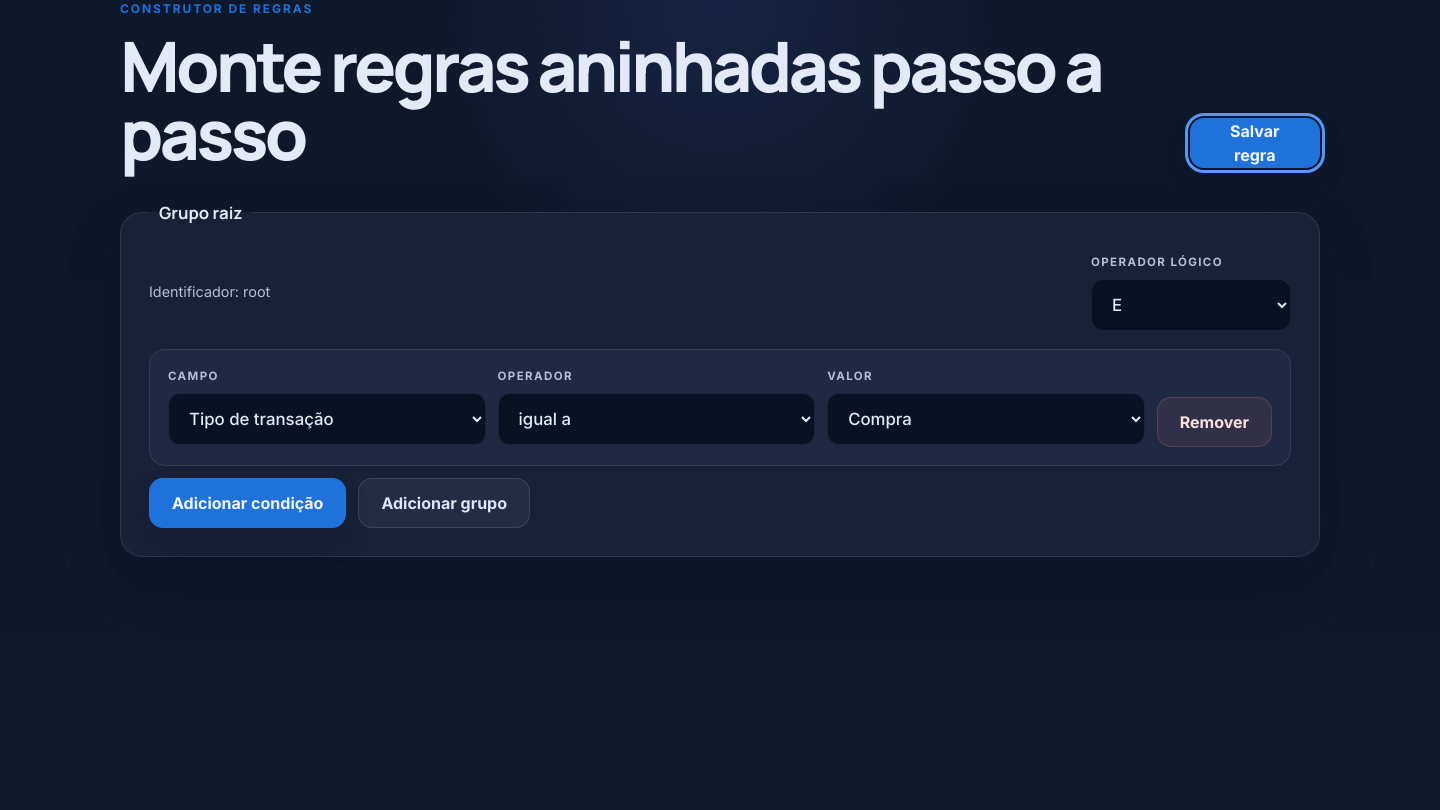
Test: RuleBuilder › allows closing the review modal with Escape and backdrop click
Click the button "Salvar regra" at (1255, 143), box 1190,118 -> 1320,168
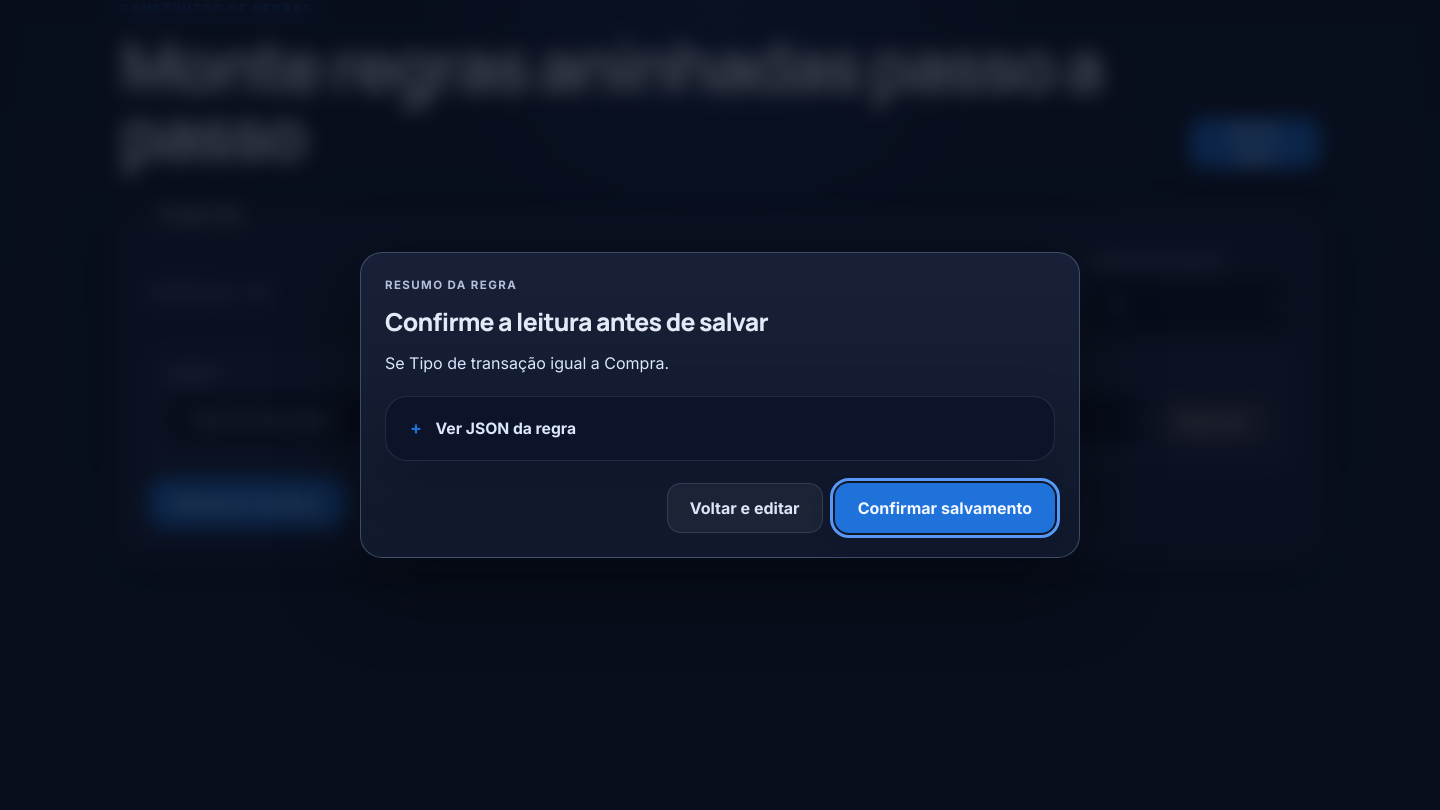
Press Enter in the dialog
Check: the dialog is shown
Press Escape in the dialog
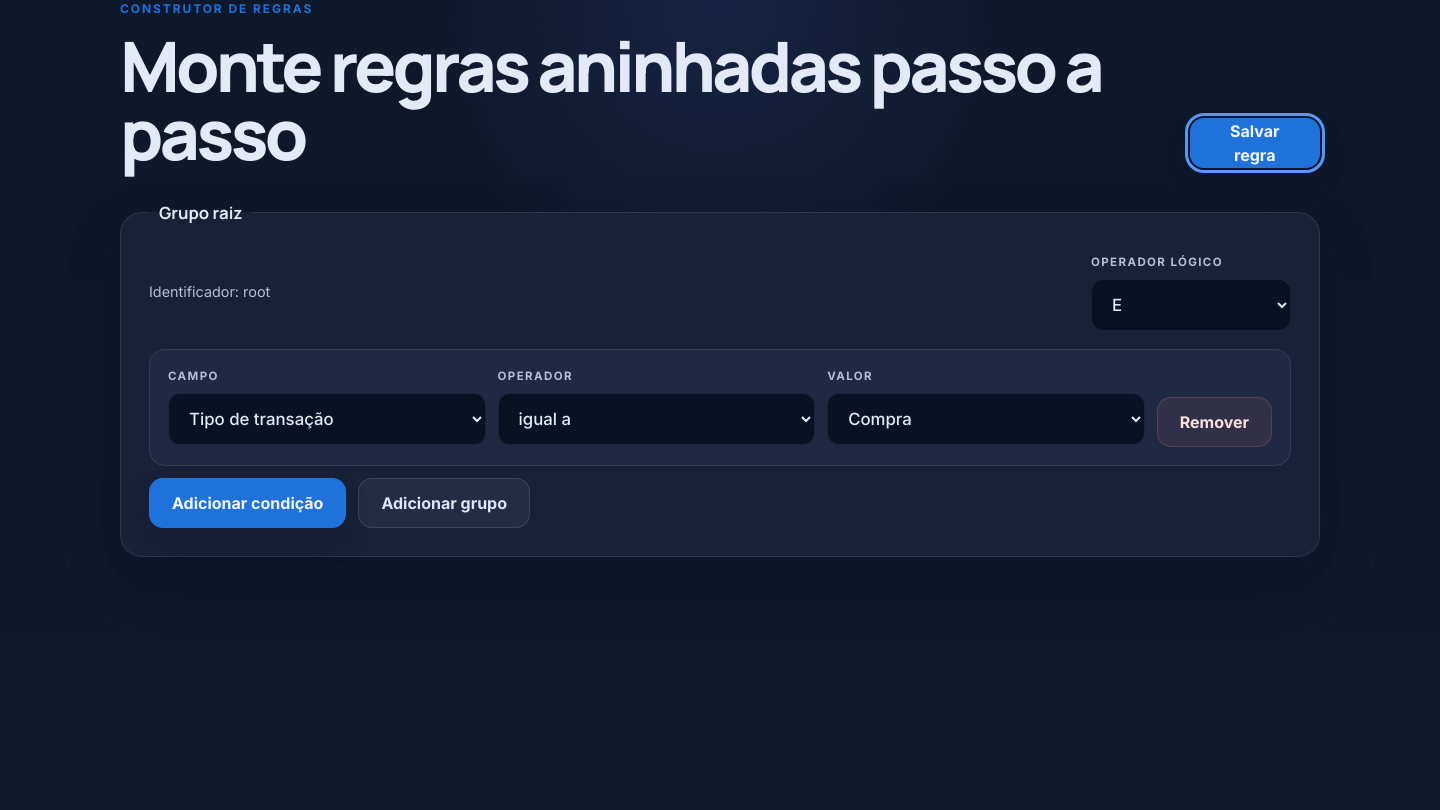
Check: the dialog is gone
Click the button "Salvar regra" at (1255, 143), box 1190,118 -> 1320,168
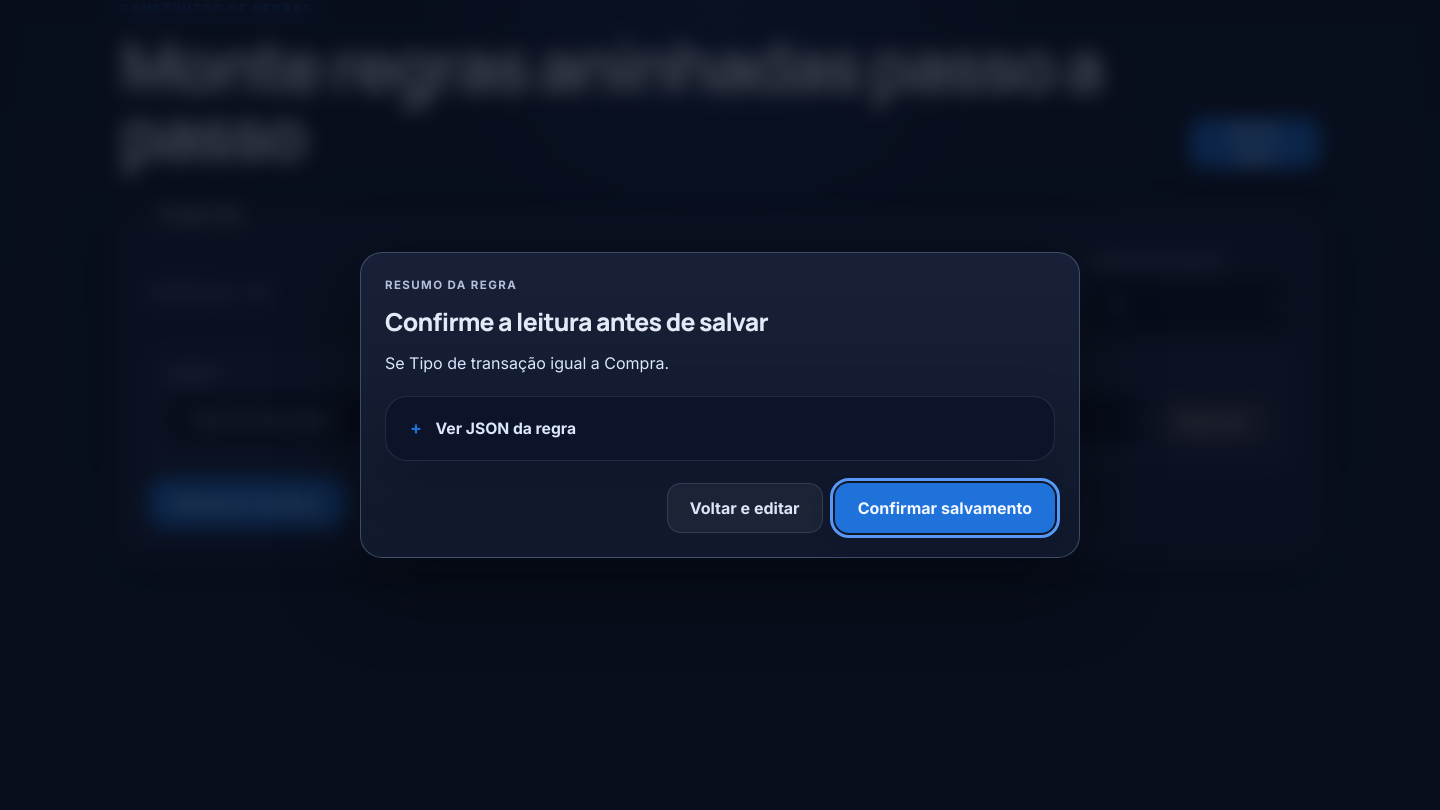
Click the element with class "rule-review-modal__backdrop" at (86, 405), box 0,0 -> 1439,809
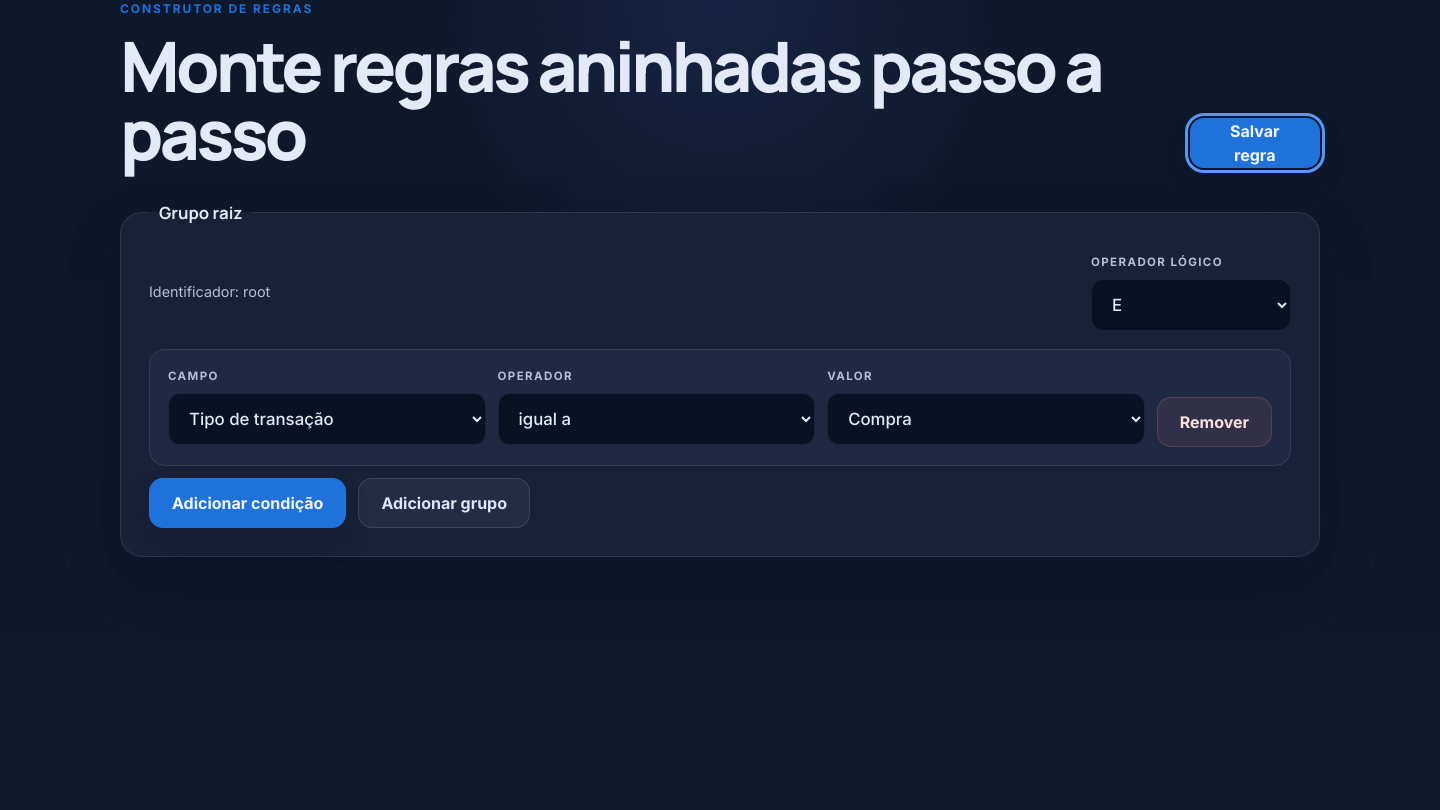
Check: the dialog is gone
